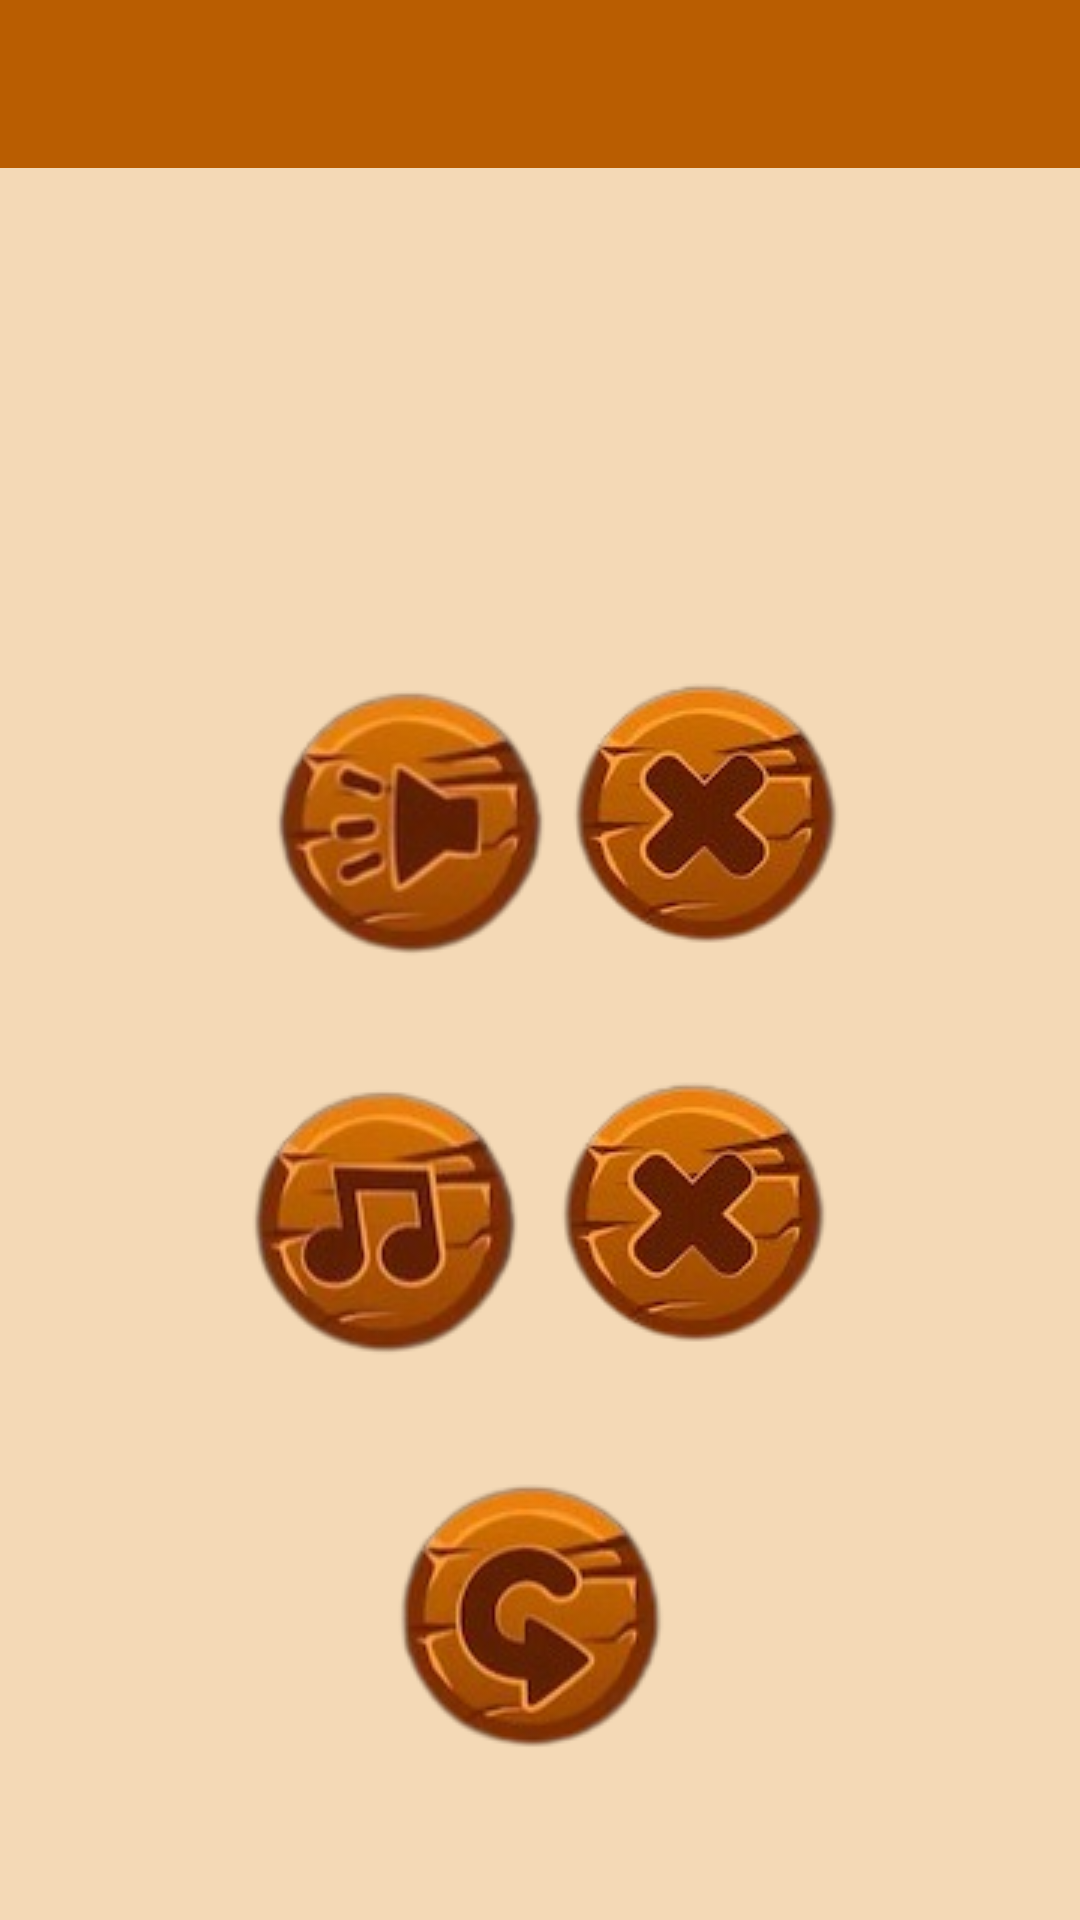

Screen size 1080 × 1920. Icon name, then its center in pixels as (x=x, y=y):
cancle: (x=706, y=814), (x=694, y=1213)
replay: (x=531, y=1616)
sound: (x=410, y=823)
